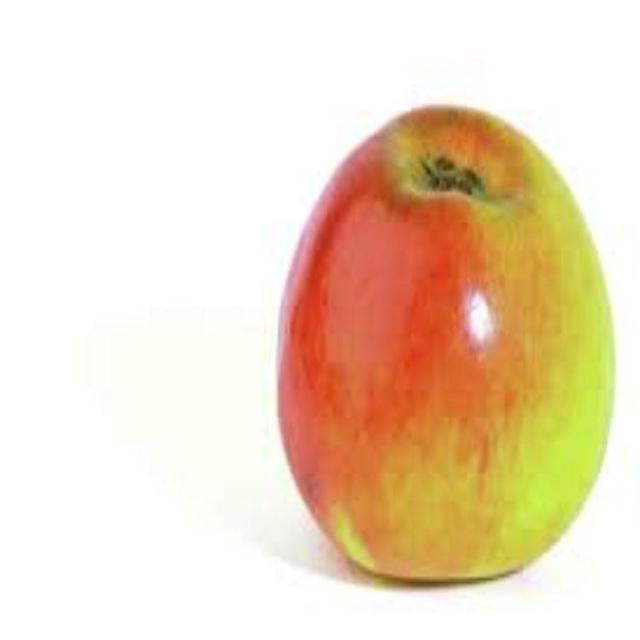Rotten Apple: (255, 83, 626, 593)
